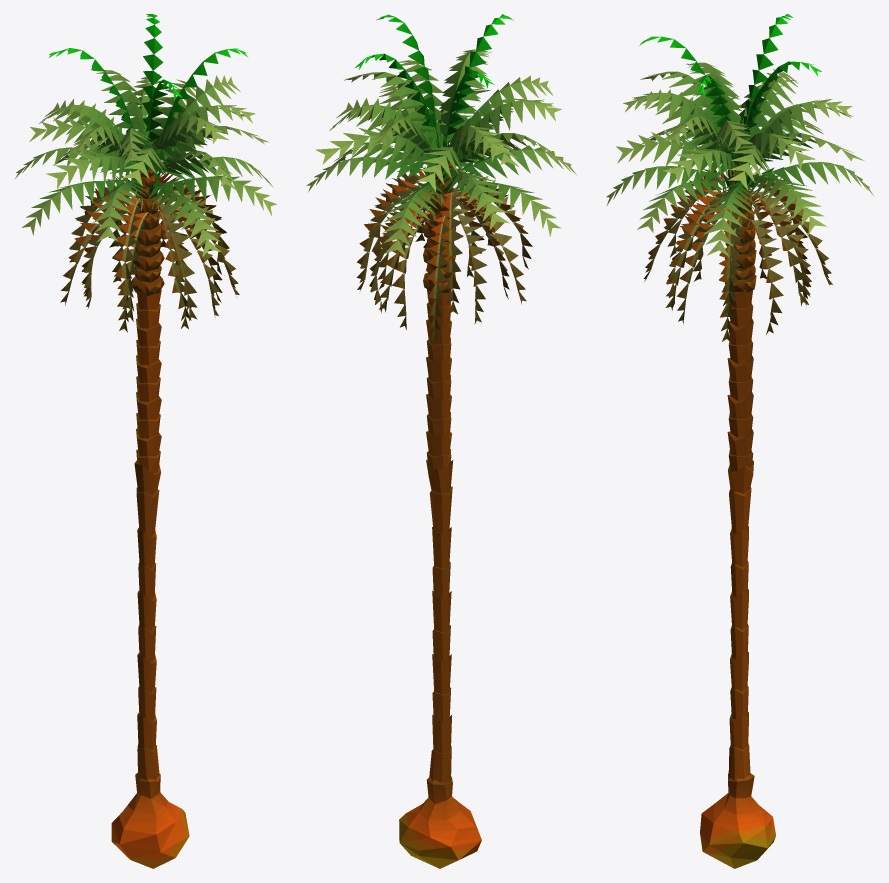
File: ExoticPalmOld.glb
3 views of the same model, side by side, from view 1: azimuth 30°, elevation 25°; view 2: azimuth 150°, elevation 25°; view 3: azimuth 270°, elevation 25° (orthographic).
Parts seen in each view (by area): view 1: ExoticPalmOldFound, ExoticPalmOldLeave, ExoticPalmOldBasicBark, ExoticPalmYoungFalenLeave, ExoticPalmOldIntermediareBark, ExoticPalmOldFalemleaves, ExoticPalmoldYoungLeave, ExoticPalmOldExtraBark; view 2: ExoticPalmOldFound, ExoticPalmOldLeave, ExoticPalmOldBasicBark, ExoticPalmOldFalemleaves, ExoticPalmYoungFalenLeave, ExoticPalmOldIntermediareBark, ExoticPalmoldYoungLeave, ExoticPalmOldExtraBark; view 3: ExoticPalmOldFound, ExoticPalmOldLeave, ExoticPalmOldBasicBark, ExoticPalmYoungFalenLeave, ExoticPalmOldFalemleaves, ExoticPalmOldIntermediareBark, ExoticPalmoldYoungLeave, ExoticPalmOldExtraBark.
Part boxes in pixels (x1=…): ExoticPalmOldFound: x1=15, y1=74, x2=276, y2=321; ExoticPalmOldLeave: x1=39, y1=70, x2=255, y2=170; ExoticPalmOldBasicBark: x1=134, y1=460, x2=160, y2=780; ExoticPalmYoungFalenLeave: x1=111, y1=773, x2=189, y2=868; ExoticPalmOldIntermediareBark: x1=136, y1=289, x2=161, y2=473; ExoticPalmOldFalemleaves: x1=81, y1=197, x2=222, y2=332; ExoticPalmoldYoungLeave: x1=49, y1=14, x2=248, y2=154; ExoticPalmOldExtraBark: x1=131, y1=169, x2=164, y2=296; ExoticPalmOldFound: x1=306, y1=84, x2=576, y2=314; ExoticPalmOldLeave: x1=329, y1=49, x2=561, y2=162; ExoticPalmOldBasicBark: x1=426, y1=460, x2=453, y2=782; ExoticPalmOldFalemleaves: x1=369, y1=187, x2=509, y2=341; ExoticPalmYoungFalenLeave: x1=399, y1=776, x2=481, y2=868; ExoticPalmOldIntermediareBark: x1=426, y1=289, x2=451, y2=469; ExoticPalmoldYoungLeave: x1=355, y1=14, x2=513, y2=156; ExoticPalmOldExtraBark: x1=423, y1=162, x2=456, y2=292; ExoticPalmOldFound: x1=606, y1=80, x2=873, y2=314; ExoticPalmOldLeave: x1=623, y1=62, x2=852, y2=170; ExoticPalmOldBasicBark: x1=728, y1=460, x2=753, y2=780; ExoticPalmYoungFalenLeave: x1=700, y1=773, x2=775, y2=868; ExoticPalmOldFalemleaves: x1=666, y1=188, x2=811, y2=342; ExoticPalmOldIntermediareBark: x1=727, y1=290, x2=753, y2=471; ExoticPalmoldYoungLeave: x1=639, y1=14, x2=821, y2=164; ExoticPalmOldExtraBark: x1=725, y1=161, x2=756, y2=292.
Size of the model in its own units: 5.25 by 17.72 by 5.25.
Materials: 1 (1 with a texture image).
